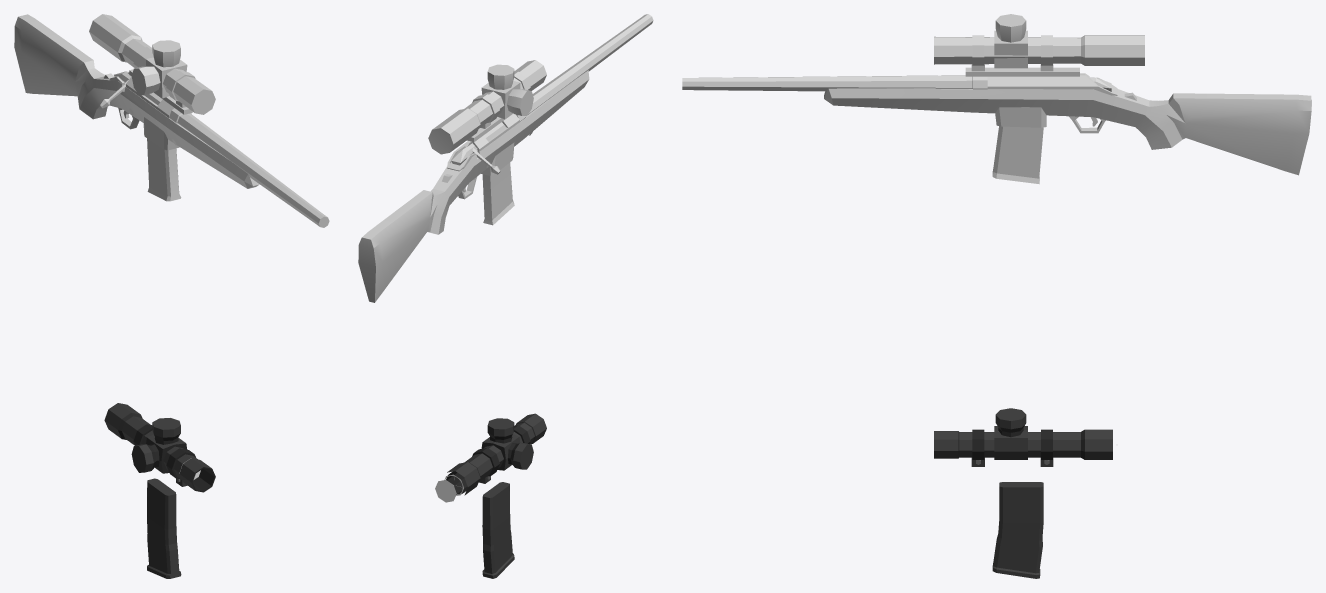
File: AmericanPredator_Gun.glb
3 views of the same model, side by side, from view 1: azimuth 30°, elevation 25°; view 2: azimuth 150°, elevation 25°; view 3: azimuth 270°, elevation 25° (orthographic). The views are drawn at different scales.
Visible parts, largest first — view 1: AmericanPredatorLowPoly, AmericanPredatorScope, AmericanPredatorMag, AmericanPredatorScopeControls; view 2: AmericanPredatorLowPoly, AmericanPredatorScope, AmericanPredatorMag, AmericanPredatorScopeControls; view 3: AmericanPredatorLowPoly, AmericanPredatorScope, AmericanPredatorMag.
Boxes of the visible parts, left/top/right/bottom form: AmericanPredatorLowPoly: left=14, top=14, right=329, bottom=227; AmericanPredatorScope: left=104, top=403, right=215, bottom=492; AmericanPredatorMag: left=147, top=478, right=181, bottom=578; AmericanPredatorScopeControls: left=131, top=418, right=180, bottom=472; AmericanPredatorLowPoly: left=358, top=14, right=653, bottom=302; AmericanPredatorScope: left=446, top=413, right=546, bottom=495; AmericanPredatorMag: left=482, top=482, right=514, bottom=578; AmericanPredatorScopeControls: left=487, top=418, right=533, bottom=469; AmericanPredatorLowPoly: left=682, top=14, right=1311, bottom=184; AmericanPredatorScope: left=934, top=426, right=1112, bottom=466; AmericanPredatorMag: left=992, top=482, right=1043, bottom=578.
Size of the model in its own units: 0.0855 by 0.9404 by 0.9659.
Materials: 5 (1 with a texture image).
